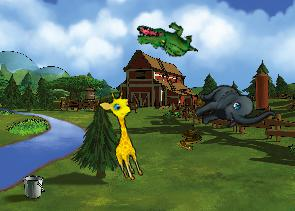crocodile: (135, 18, 198, 61)
elephant: (188, 67, 276, 150)
giraffe: (96, 88, 154, 183)
